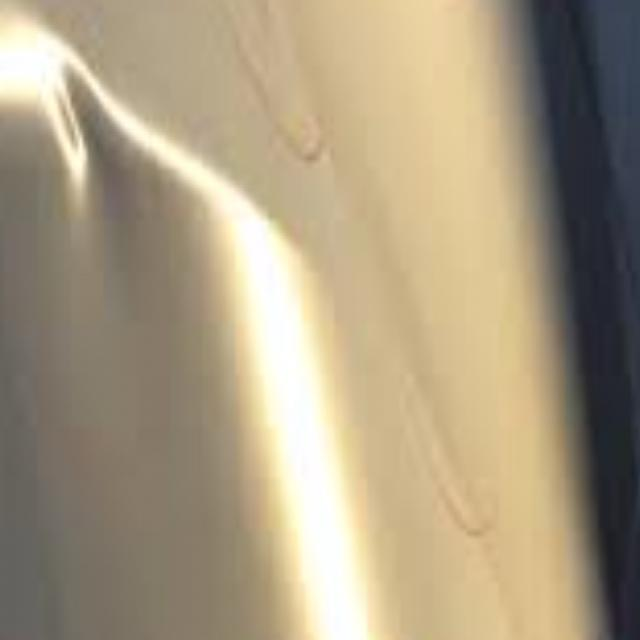dents: (34, 49, 173, 255)
